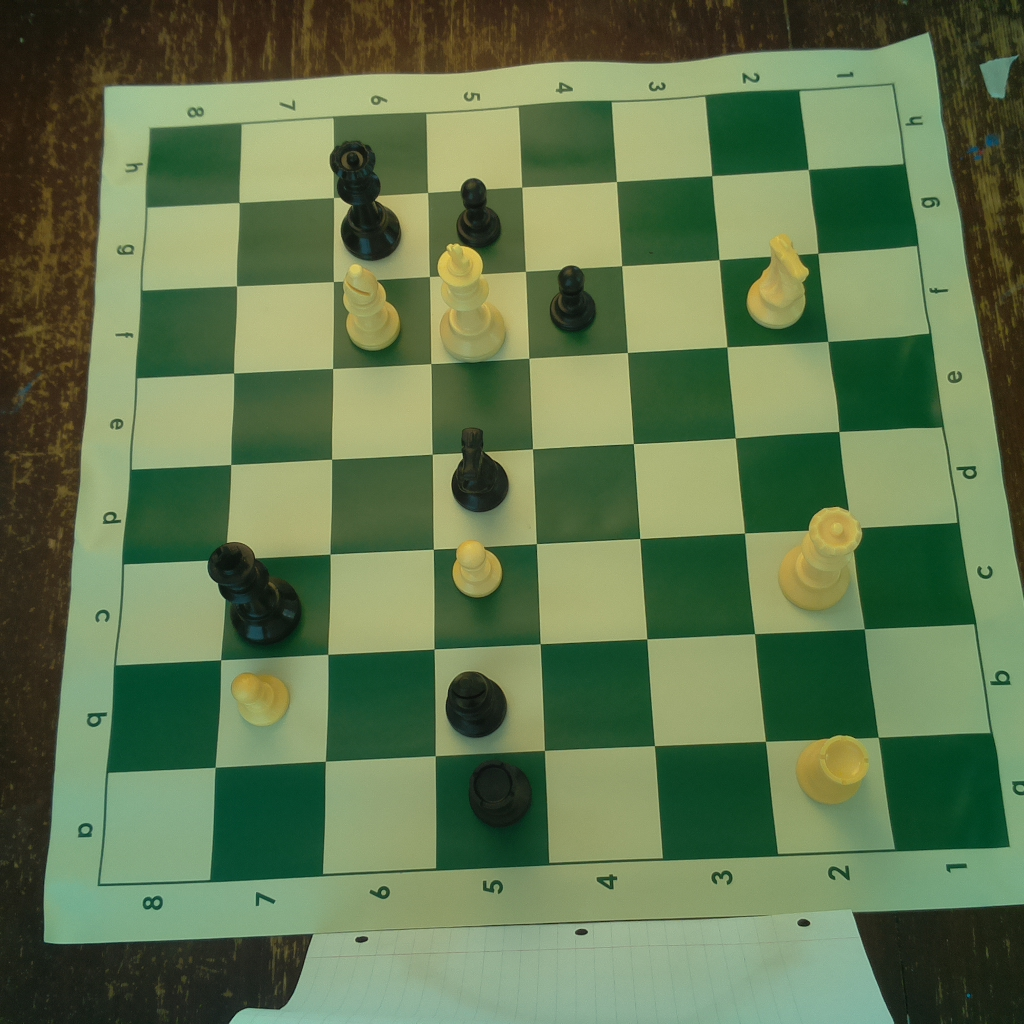black_bishop: (442, 666, 511, 740)
black_king: (202, 535, 306, 648)
black_knight: (442, 422, 514, 513)
black_pawn: (547, 261, 601, 334), (451, 175, 507, 245)
black_queen: (327, 136, 406, 264)
black_rook: (460, 758, 537, 831)
file_a: (99, 732, 1010, 888)
file_b: (105, 622, 993, 773)
file_c: (112, 523, 976, 666)
file_d: (124, 428, 957, 564)
file_e: (129, 335, 944, 470)
file_f: (136, 243, 932, 377)
file_g: (141, 166, 919, 290)
file_h: (146, 83, 908, 209)
outline: (98, 86, 1007, 887)
rank_1: (797, 83, 1008, 853)
rank_2: (707, 90, 894, 853)
rank_3: (612, 96, 780, 858)
rank_4: (518, 99, 664, 865)
rank_5: (427, 106, 550, 873)
rank_6: (320, 113, 438, 874)
rank_7: (208, 119, 334, 882)
rank_8: (98, 123, 242, 891)
white_bishop: (334, 265, 402, 349)
white_king: (427, 236, 510, 361)
white_knight: (746, 225, 812, 331)
white_pawn: (229, 664, 296, 727), (445, 531, 506, 597)
white_queen: (780, 501, 866, 614)
white_rook: (788, 722, 872, 806)
